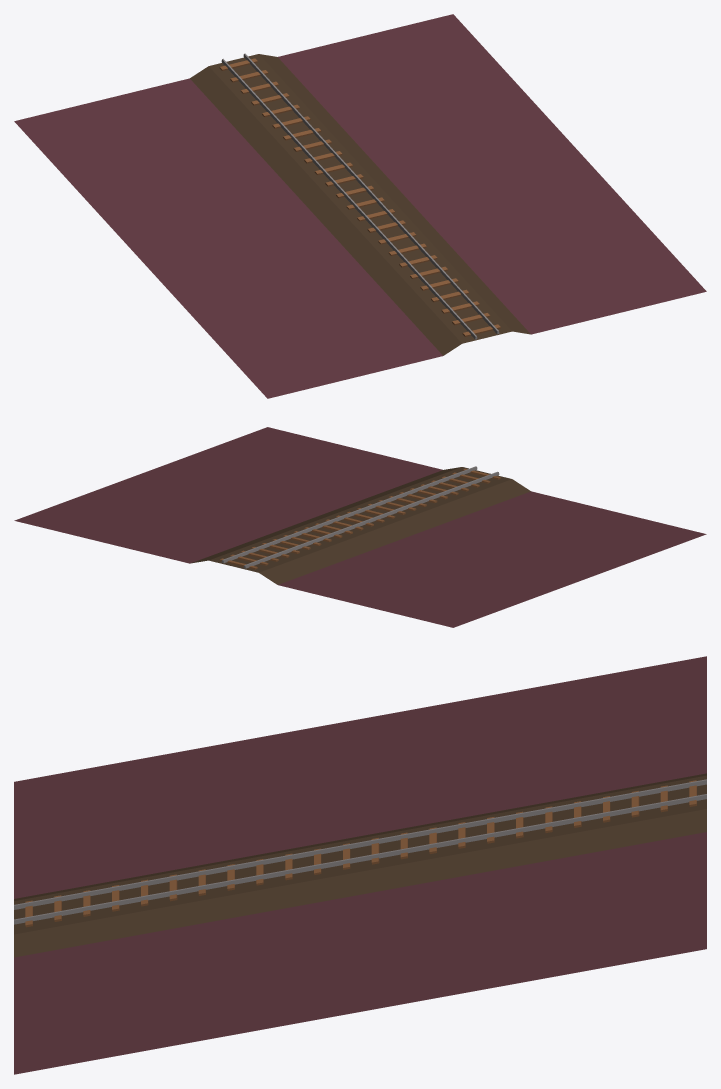
The model's file is tile-rail-hill-nb.fbx.
3 views of the same model, one above another, from view 1: azimuth 30°, elevation 25°; view 2: azimuth 150°, elevation 25°; view 3: azimuth 270°, elevation 25° (orthographic). The views are drawn at different scales.
Visible parts, largest first — view 1: tile-rail-hill-nb; view 2: tile-rail-hill-nb; view 3: tile-rail-hill-nb.
Part boxes in pixels (bbox=[...]): tile-rail-hill-nb: bbox=[14, 14, 706, 398]; tile-rail-hill-nb: bbox=[14, 427, 706, 627]; tile-rail-hill-nb: bbox=[14, 656, 706, 1074].
Size of the model in its own units: 30 by 6.75 by 30.
